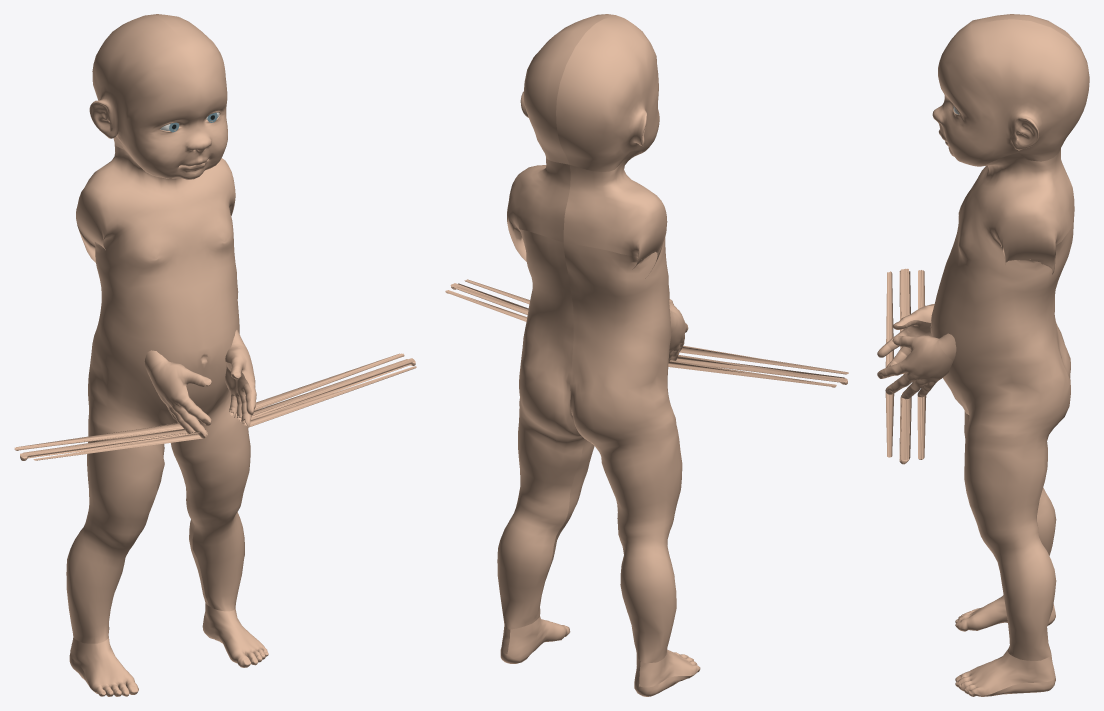
The model's file is body-baby-weiblich-real-v3.glb.
3 renders of one model, left to right at view 1: azimuth 30°, elevation 25°; view 2: azimuth 150°, elevation 25°; view 3: azimuth 270°, elevation 25°, orthographic.
Parts seen in each view (by area): view 1: real-human-body; view 2: real-human-body; view 3: real-human-body.
Part boxes in pixels (<box>): real-human-body: <box>14,14,416,696</box>; real-human-body: <box>445,14,848,696</box>; real-human-body: <box>877,14,1089,696</box>.
Bounding box in the file's own units: 0.4377 × 0.68 × 0.2053.
